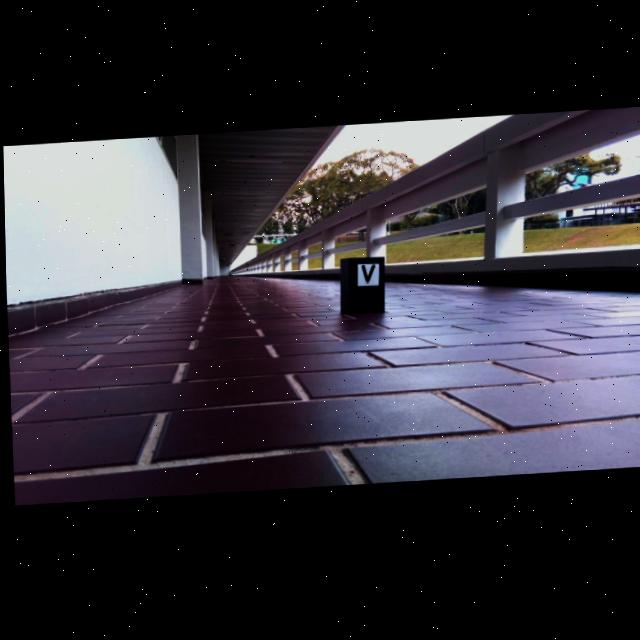V: (360, 268, 373, 286)
